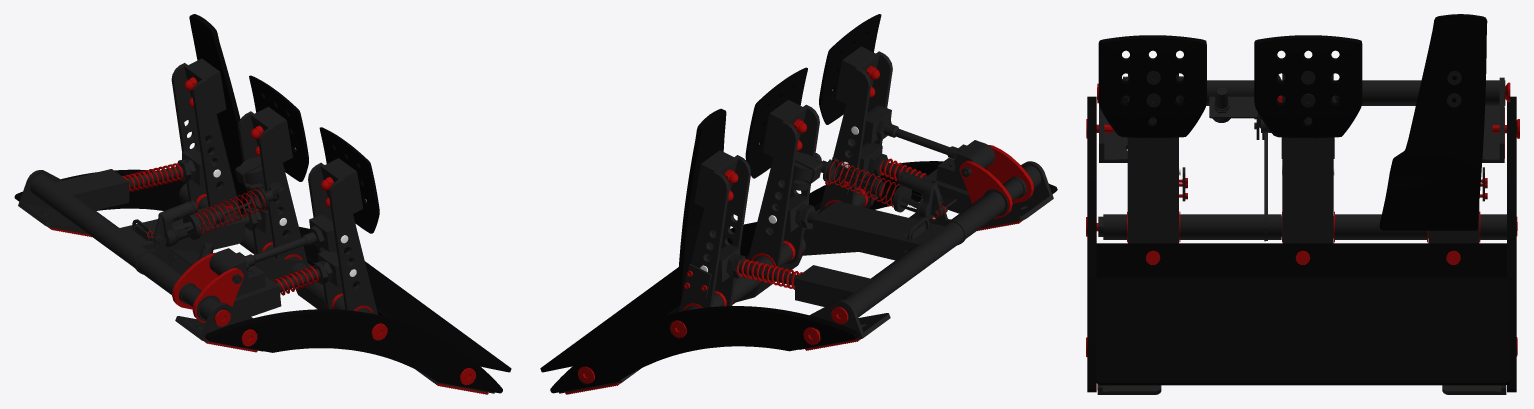
File: pedal_c.glb
3 views of the same model, side by side, from view 1: azimuth 30°, elevation 25°; view 2: azimuth 150°, elevation 25°; view 3: azimuth 270°, elevation 25° (orthographic). The views are drawn at different scales.
Visible parts, largest first — view 1: pedal_c; view 2: pedal_c; view 3: pedal_c.
Part boxes in pixels (x1,y1,x2,y2): pedal_c: (14,14,511,394); pedal_c: (540,14,1057,394); pedal_c: (1086,14,1519,394).
Size of the model in its own units: 0.0351 by 0.0308 by 0.0387.
